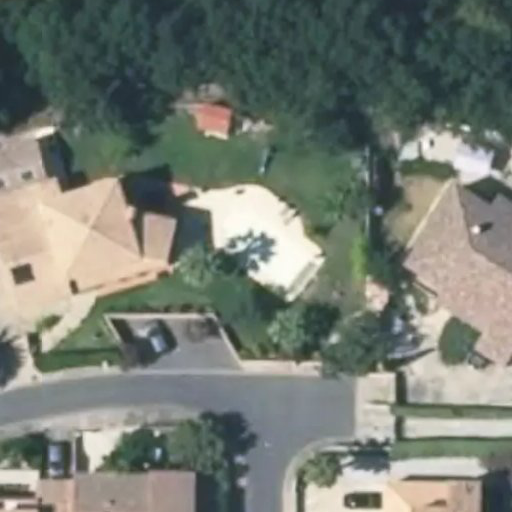pool: (212, 236, 308, 239)
